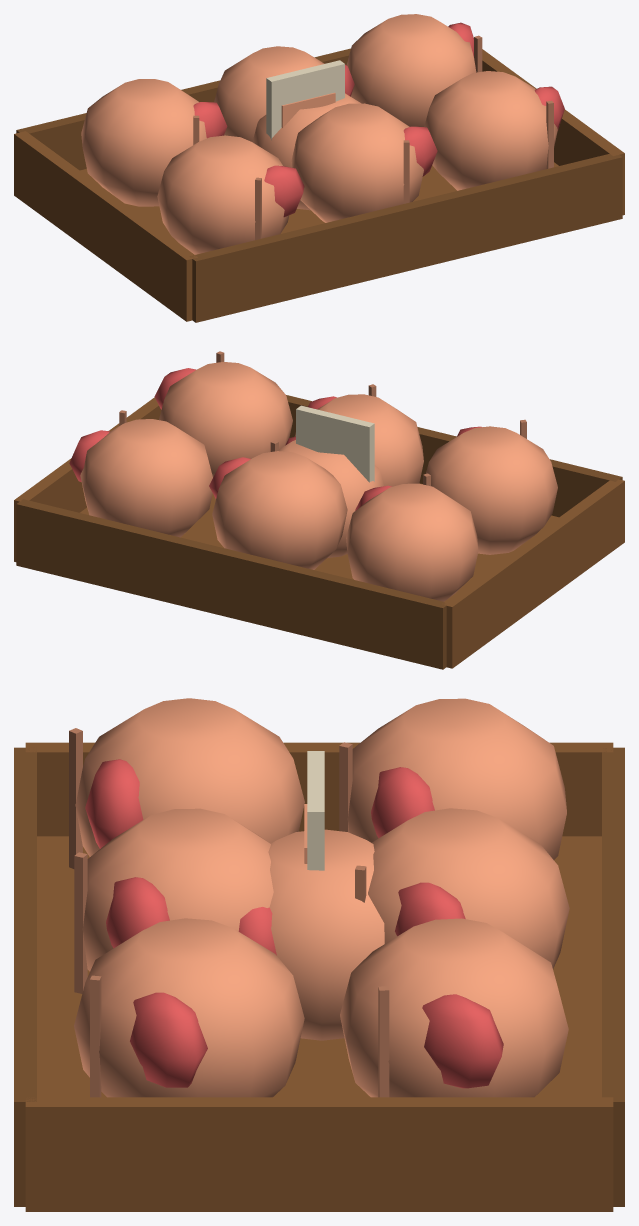
File: Fruit_Peach.fbx
3 views of the same model, one above another, from view 1: azimuth 30°, elevation 25°; view 2: azimuth 150°, elevation 25°; view 3: azimuth 270°, elevation 25° (orthographic). The views are drawn at different scales.
Visible parts, largest first — view 1: Fruit_Peach__Stack, Fruit_Peach__Seed, Fruit_Peach; view 2: Fruit_Peach__Stack, Fruit_Peach__Seed, Fruit_Peach; view 3: Fruit_Peach__Stack, Fruit_Peach, Fruit_Peach__Seed.
Part boxes in pixels (x1,y1,x2,y2): Fruit_Peach__Stack: (14, 14, 624, 322); Fruit_Peach__Seed: (266, 60, 344, 140); Fruit_Peach: (252, 93, 361, 210); Fruit_Peach__Stack: (14, 351, 624, 669); Fruit_Peach__Seed: (296, 405, 374, 482); Fruit_Peach: (279, 436, 383, 557); Fruit_Peach__Stack: (14, 698, 624, 1211); Fruit_Peach: (238, 829, 384, 1040); Fruit_Peach__Seed: (304, 751, 324, 870).
Bounding box in the file's own units: 0.298 × 0.09 × 0.2112.
